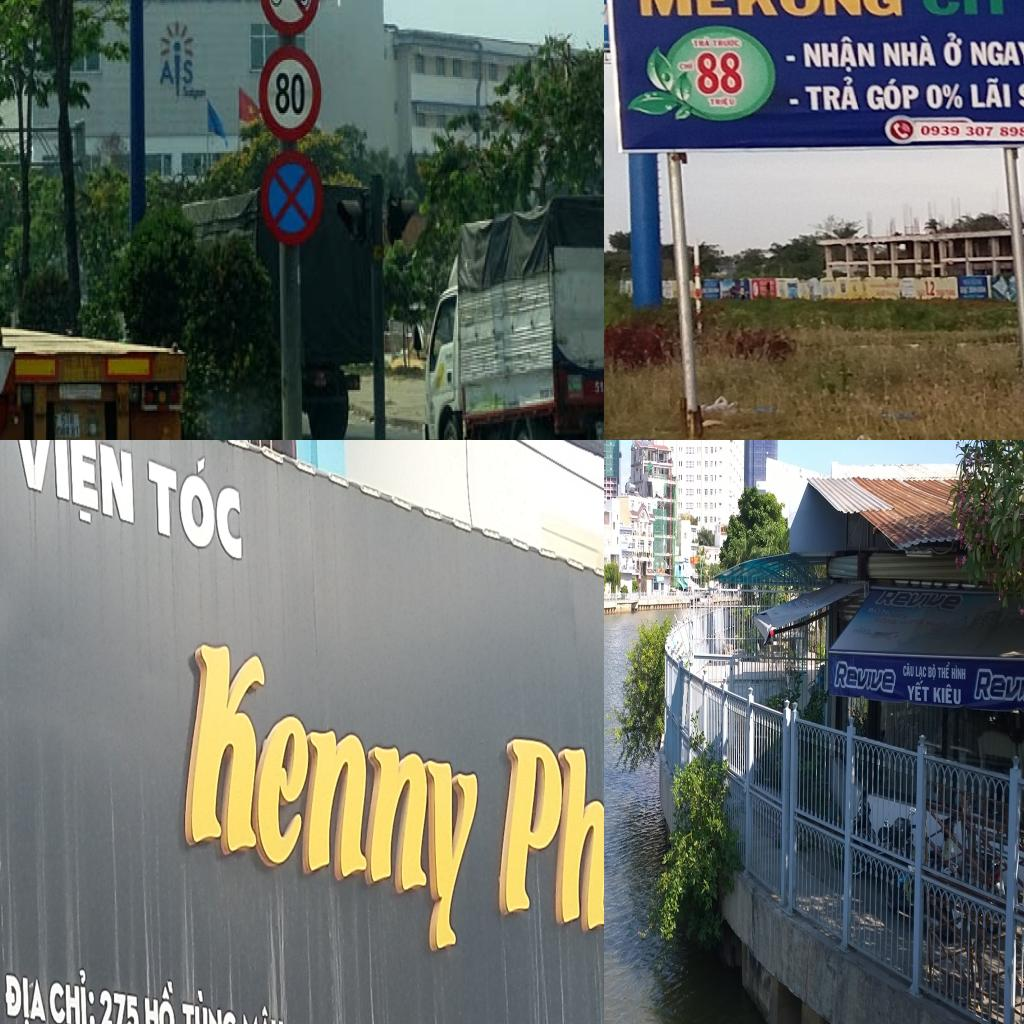text: (180, 628, 488, 962), (493, 702, 604, 1019), (10, 440, 136, 540), (146, 440, 244, 566), (632, 0, 906, 20), (797, 34, 879, 75), (46, 964, 96, 1024), (832, 655, 899, 699), (800, 75, 864, 114), (695, 50, 746, 98), (873, 589, 966, 615), (3, 972, 49, 1024), (180, 984, 239, 1024), (862, 77, 924, 115), (917, 0, 1024, 22), (881, 34, 939, 70), (917, 122, 1024, 139), (966, 75, 1014, 111), (97, 985, 141, 1024), (142, 975, 177, 1024), (968, 39, 1024, 68), (274, 69, 307, 117), (925, 82, 967, 114), (937, 32, 967, 69), (241, 1001, 286, 1024), (932, 682, 964, 706), (906, 680, 931, 705), (158, 58, 176, 90), (182, 84, 210, 102), (712, 36, 744, 50), (688, 34, 714, 50), (182, 58, 196, 87), (873, 614, 899, 629), (706, 97, 738, 109), (924, 617, 952, 630), (880, 607, 910, 619), (950, 661, 967, 682), (938, 659, 952, 682), (921, 279, 938, 297), (898, 618, 925, 627), (926, 661, 937, 683), (677, 60, 696, 72), (915, 664, 927, 682), (902, 662, 914, 678), (868, 604, 882, 615)
